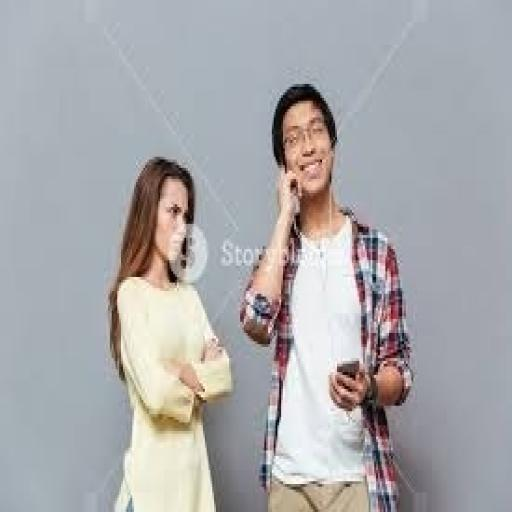listening_to_music: (237, 78, 415, 510), (106, 154, 235, 509)
